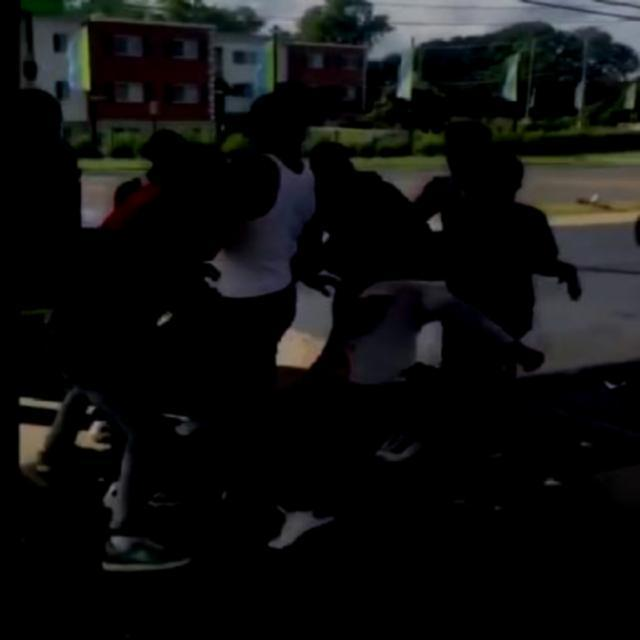fight: (185, 93, 570, 550)
